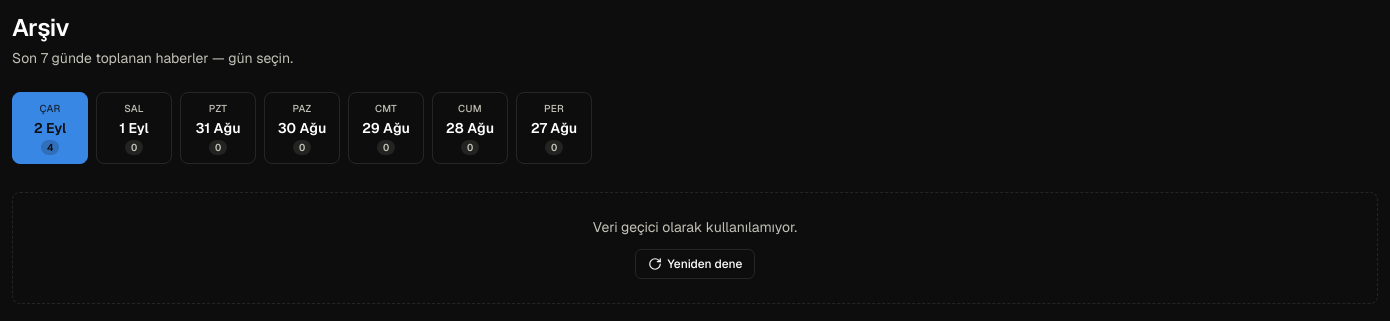
ArchiveClient › never says a day collected nothing when the day's request failed
This screenshot has width=1390, height=321.
Expected: the text "Veri geçici olarak kullanılamıyor." is shown, left=593, top=217, right=797, bottom=237
Click the button "Yeniden dene": point(695, 264) left=635, top=249, right=756, bottom=279
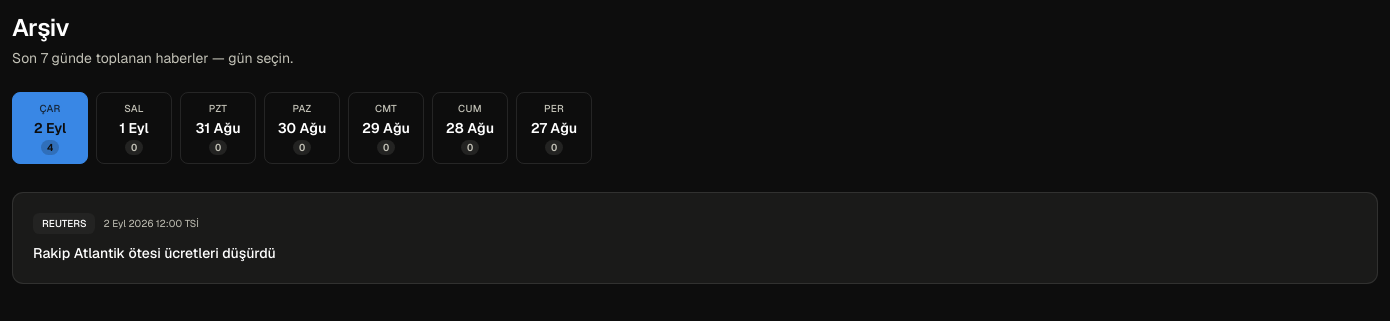
Expected: the text "Rakip Atlantik ötesi ücretleri düşürdü" is shown, left=33, top=244, right=276, bottom=263
